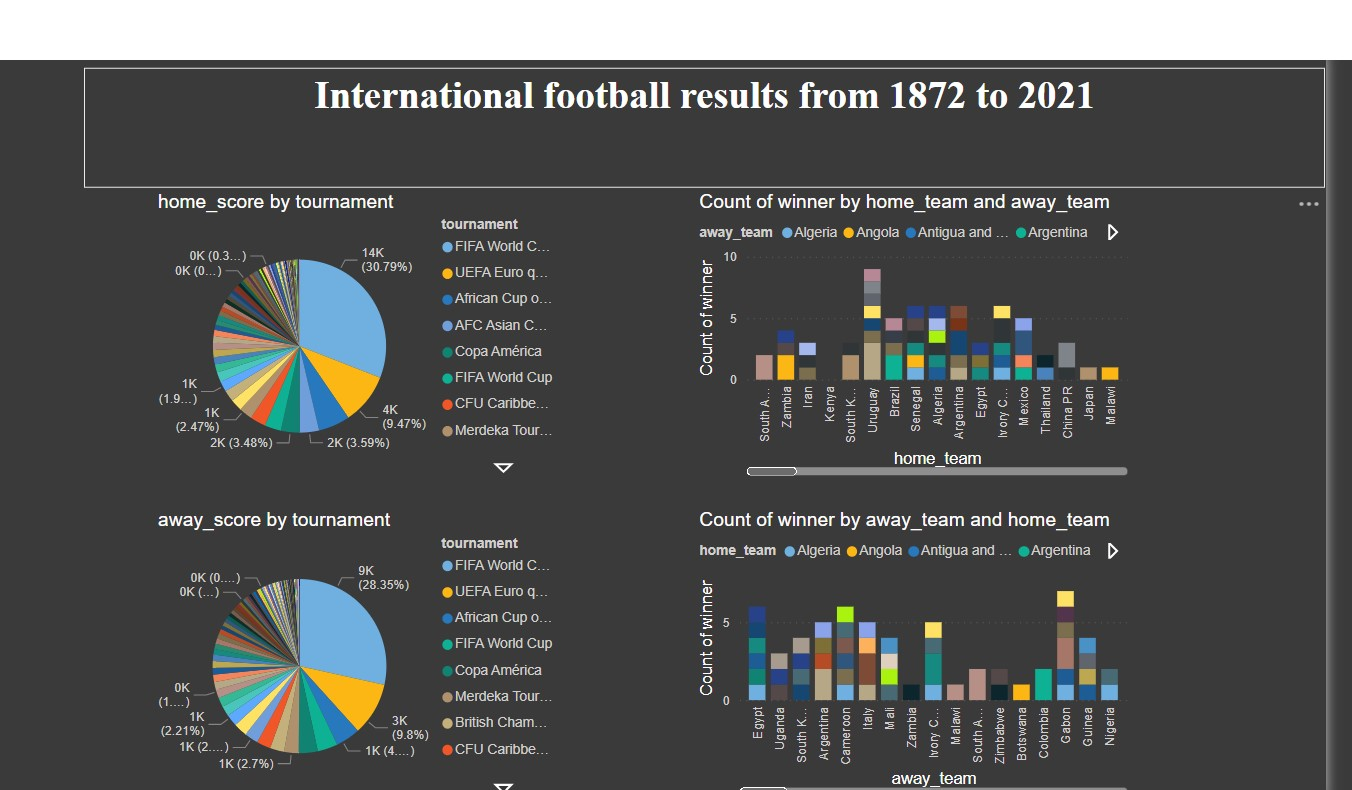

This screenshot's page, from the dashboard's own definition file:
{"tool":"powerbi","page":{"name":"Page 2","canvas":[1280,720],"ordinal":1},"visuals":[{"type":"columnChart","fields":{"Category":["shootouts.away_team"],"Y":["CountNonNull(shootouts.winner)"],"Series":["shootouts.home_team"]},"box":[670.2,438.4,423.3,282.2],"z":0},{"type":"pieChart","fields":{"Category":["results.tournament"],"Y":["Sum(results.away_score)"]},"box":[147.8,438.4,401.5,282.2],"z":1},{"type":"pieChart","fields":{"Category":["results.tournament"],"Y":["Sum(results.home_score)"]},"box":[147.8,131,401.5,280.5],"z":2},{"type":"columnChart","fields":{"Y":["CountNonNull(shootouts.winner)"],"Category":["shootouts.home_team"],"Series":["shootouts.away_team"]},"box":[670.2,131,423.3,280.5],"z":3},{"type":"textbox","box":[82.4,13.5,1197.6,116.1],"z":4}]}

Visuals, with their boxes on the page's 1280x720 design canvas (x1, y1, x2, y2). These are canvas units, not pixel positions in the 1352x790 screenshot, which may show the page scaled, cropped or inside an application window:
columnChart - shootouts.away_team x CountNonNull(shootouts.winner): (670, 438, 1094, 721)
pieChart - results.tournament x Sum(results.away_score): (148, 438, 549, 721)
pieChart - results.tournament x Sum(results.home_score): (148, 131, 549, 412)
columnChart - CountNonNull(shootouts.winner) x shootouts.home_team: (670, 131, 1094, 412)
textbox: (82, 14, 1280, 130)
